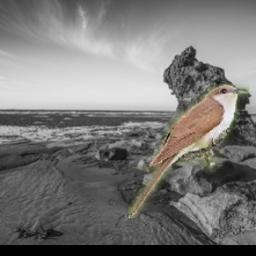Cuckoo: (129, 85, 249, 219)
